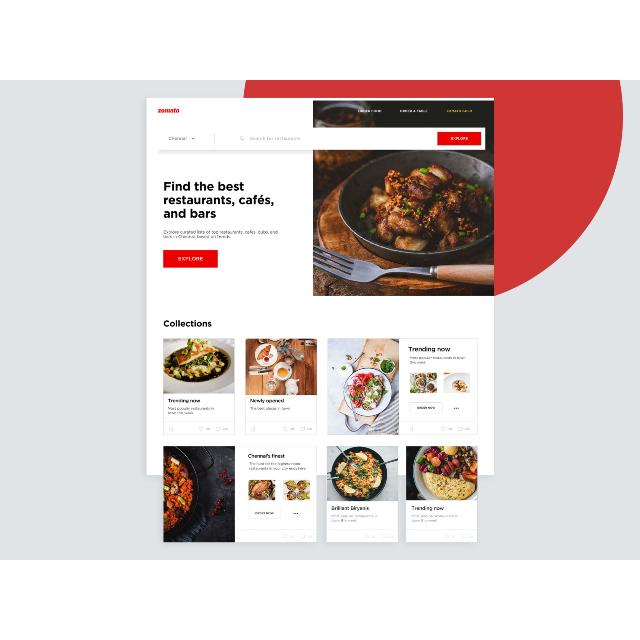QLabel: (160, 178, 284, 220), (162, 229, 278, 239), (249, 462, 307, 471), (162, 318, 212, 328), (409, 356, 465, 364), (410, 514, 458, 522), (331, 514, 379, 522), (168, 407, 215, 415), (408, 346, 450, 352), (250, 398, 284, 404), (248, 454, 286, 458), (332, 506, 368, 510), (168, 399, 200, 403), (412, 506, 444, 510), (250, 406, 290, 409), (400, 109, 428, 113), (358, 109, 382, 113), (178, 256, 202, 260), (451, 136, 469, 140), (416, 406, 436, 409), (446, 110, 472, 112), (254, 512, 274, 514), (388, 534, 394, 538), (222, 428, 228, 430), (307, 428, 313, 430), (464, 428, 470, 430), (468, 536, 474, 538), (307, 536, 313, 538), (206, 428, 210, 430), (290, 428, 294, 430), (448, 428, 452, 430), (452, 536, 456, 538), (372, 536, 376, 538), (290, 535, 294, 537)
VAppBar: (147, 98, 493, 120)
VBtn: (164, 250, 218, 268), (437, 132, 481, 146), (248, 508, 280, 520), (410, 402, 442, 413)
VCard: (328, 338, 478, 436), (164, 446, 316, 542), (157, 128, 486, 150), (245, 338, 317, 434), (163, 339, 234, 435), (327, 446, 398, 542), (406, 446, 476, 542)
VCombobox: (159, 131, 203, 145)
VDivider: (235, 528, 317, 530), (406, 528, 476, 530), (327, 528, 397, 530), (214, 132, 216, 146), (164, 422, 234, 422), (246, 422, 316, 422), (399, 422, 476, 422)
VIcon: (169, 426, 173, 432), (251, 426, 255, 432), (300, 426, 304, 432), (458, 426, 462, 432), (382, 534, 386, 540), (199, 427, 203, 431), (216, 427, 220, 431), (283, 427, 287, 431), (441, 427, 445, 431), (445, 535, 449, 539), (462, 535, 466, 539), (365, 534, 369, 538), (283, 534, 287, 538), (300, 535, 304, 539), (410, 426, 412, 432), (293, 513, 299, 515), (454, 407, 458, 409)
VImg: (314, 100, 494, 296), (328, 339, 398, 435), (164, 446, 234, 542), (164, 338, 234, 394), (246, 339, 316, 395), (327, 446, 397, 502), (407, 446, 477, 500), (410, 372, 438, 393), (248, 480, 276, 500), (282, 480, 310, 500), (444, 373, 471, 393), (156, 106, 182, 114)
VTextField: (235, 132, 423, 144)
